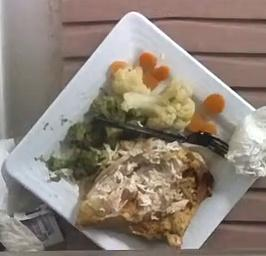broccoli: (52, 96, 136, 181)
carrots: (187, 94, 225, 134)
cauliflower: (101, 53, 194, 132)
chicken: (79, 139, 214, 246)
